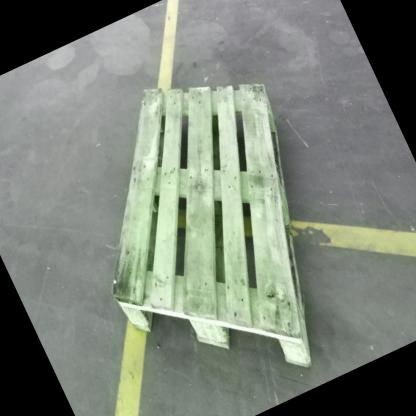BoxFace: (112, 80, 316, 373)
